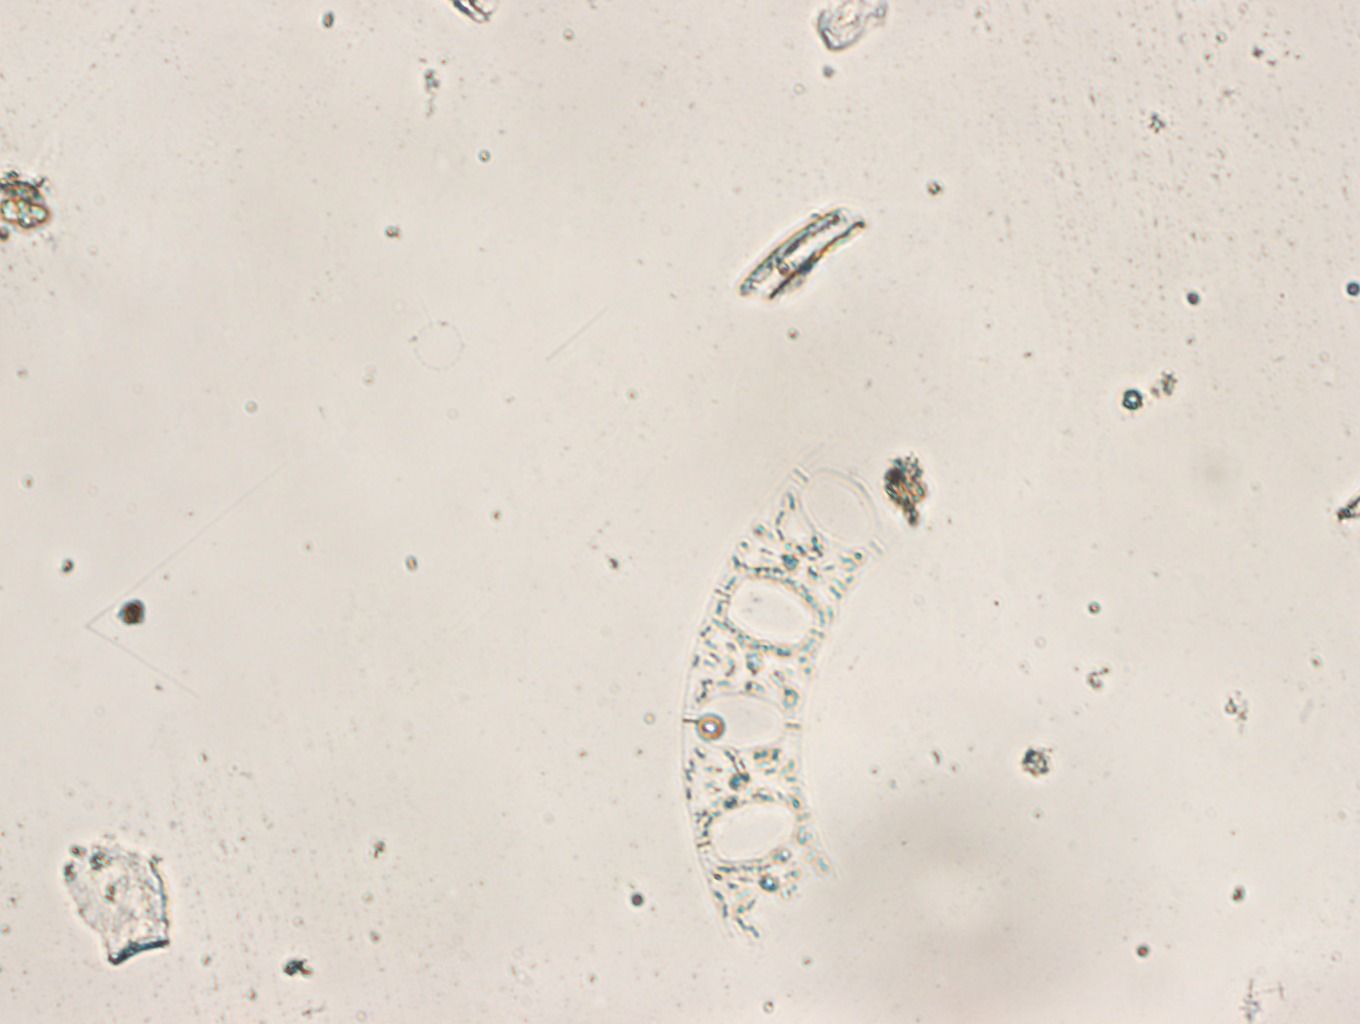eucampia: (681, 445, 885, 943)
